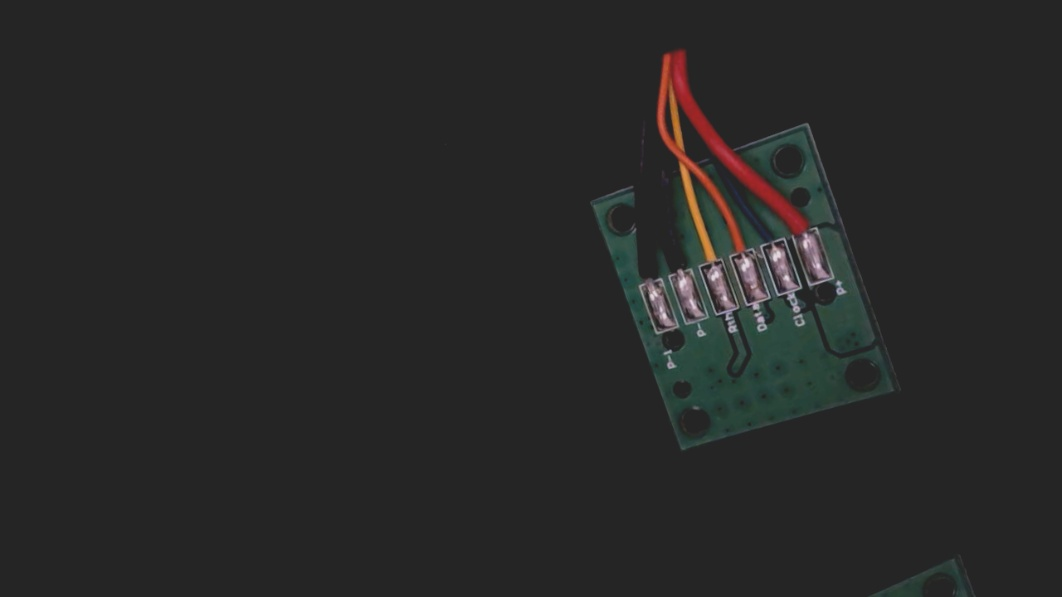Black: (654, 228, 700, 294)
Black1: (622, 241, 667, 302)
Green: (749, 211, 790, 266)
Orange: (714, 211, 759, 276)
Red: (782, 195, 823, 251)
Yellow: (683, 218, 730, 285)
